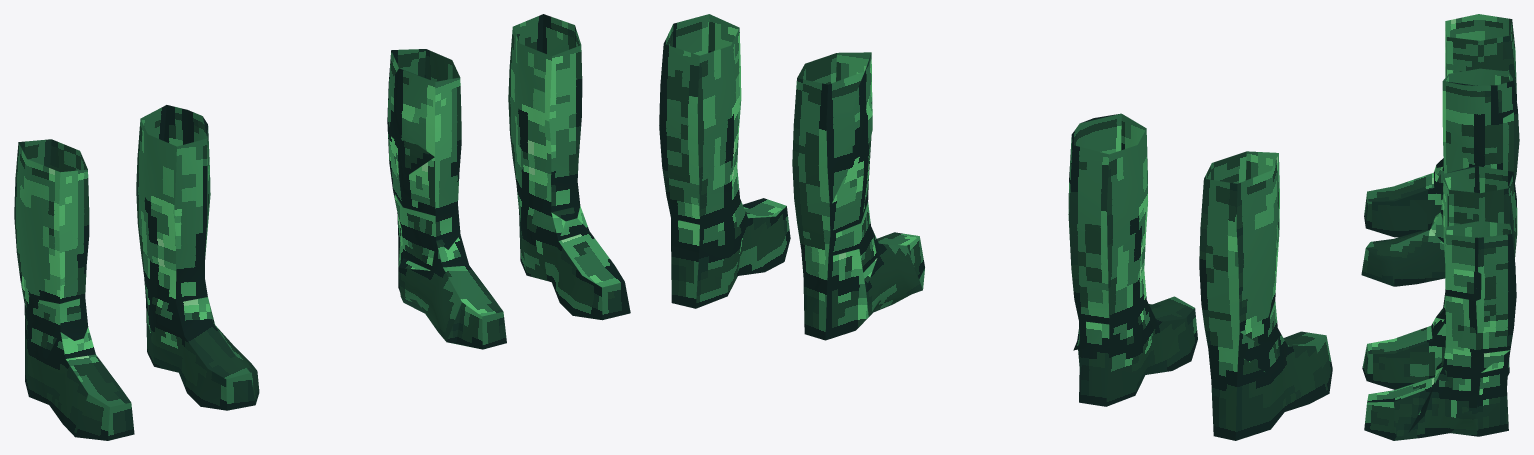
The model's file is rubber_boots.glb.
3 renders of one model, left to right at view 1: azimuth 30°, elevation 25°; view 2: azimuth 150°, elevation 25°; view 3: azimuth 270°, elevation 25°, orthographic. The views are drawn at different scales.
Parts seen in each view (by area): view 1: mesh; view 2: mesh; view 3: mesh.
Part boxes in pixels (left/top/right/bottom): mesh: left=14, top=14, right=630, bottom=440; mesh: left=659, top=14, right=1332, bottom=440; mesh: left=1361, top=14, right=1519, bottom=440.
Bounding box in the file's own units: 0.8924 × 0.373 × 0.2637.
1 material, 1 textured.
